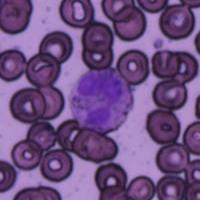N: (68, 68, 132, 132)
